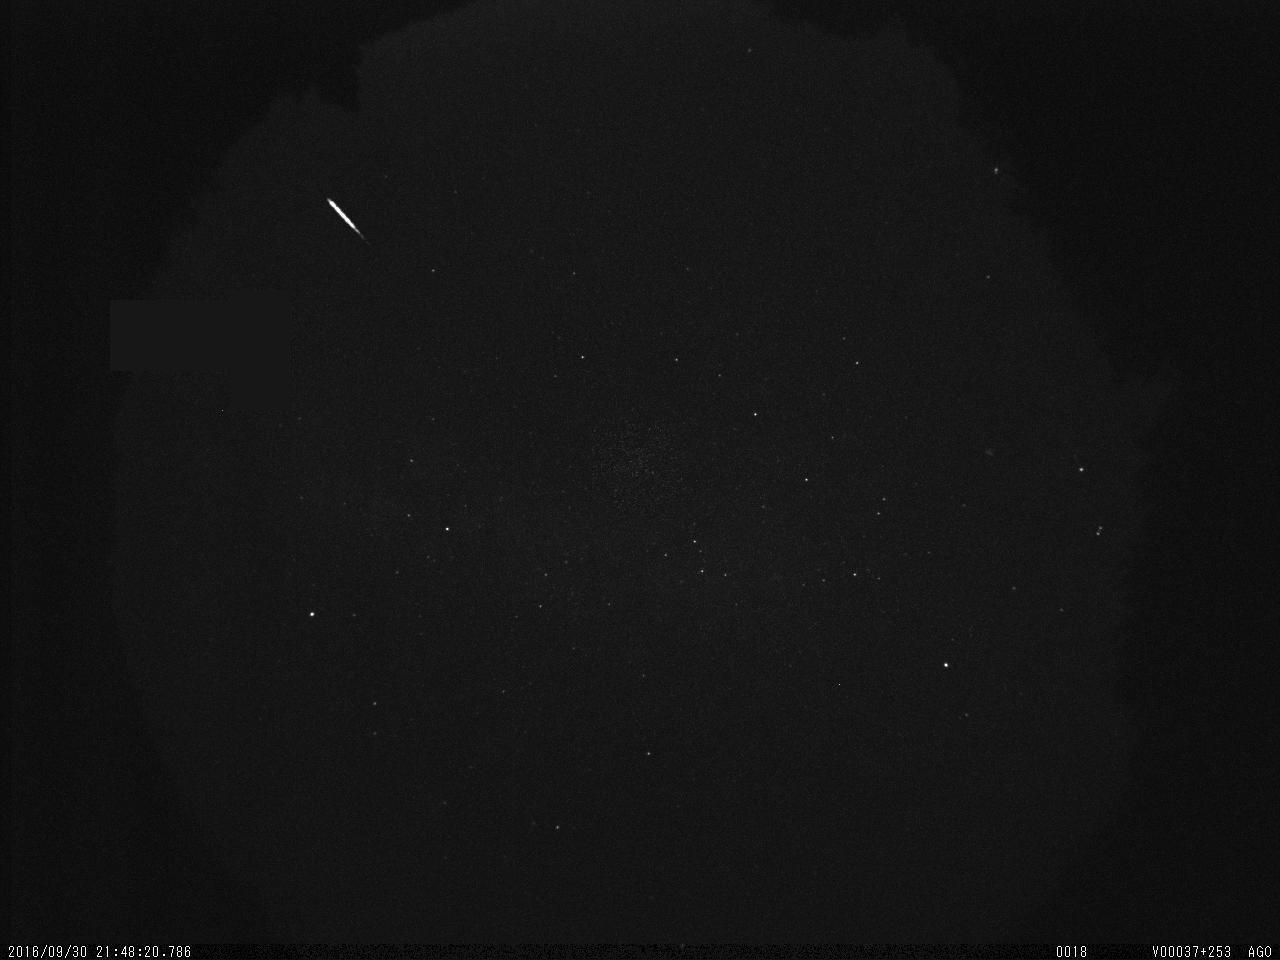Meteor: (324, 195, 368, 244)
